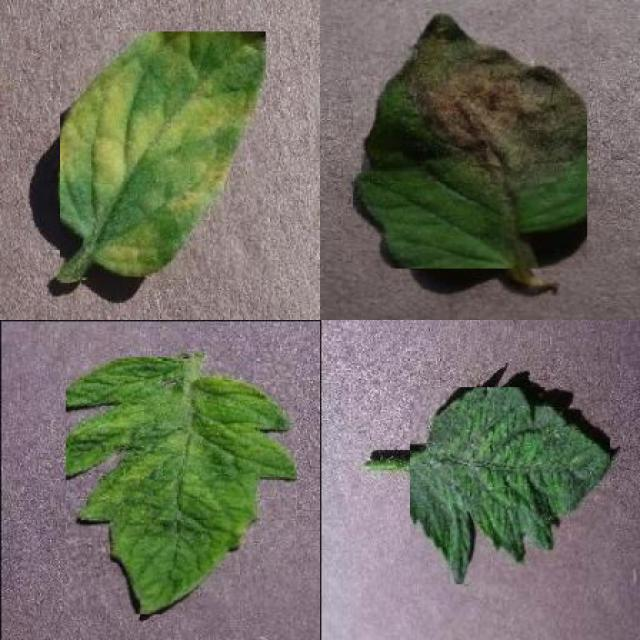Late Blight: (353, 8, 588, 268)
Leaf Mold: (60, 32, 266, 277)
Mosaic Virus: (65, 358, 298, 615), (410, 388, 610, 585)
